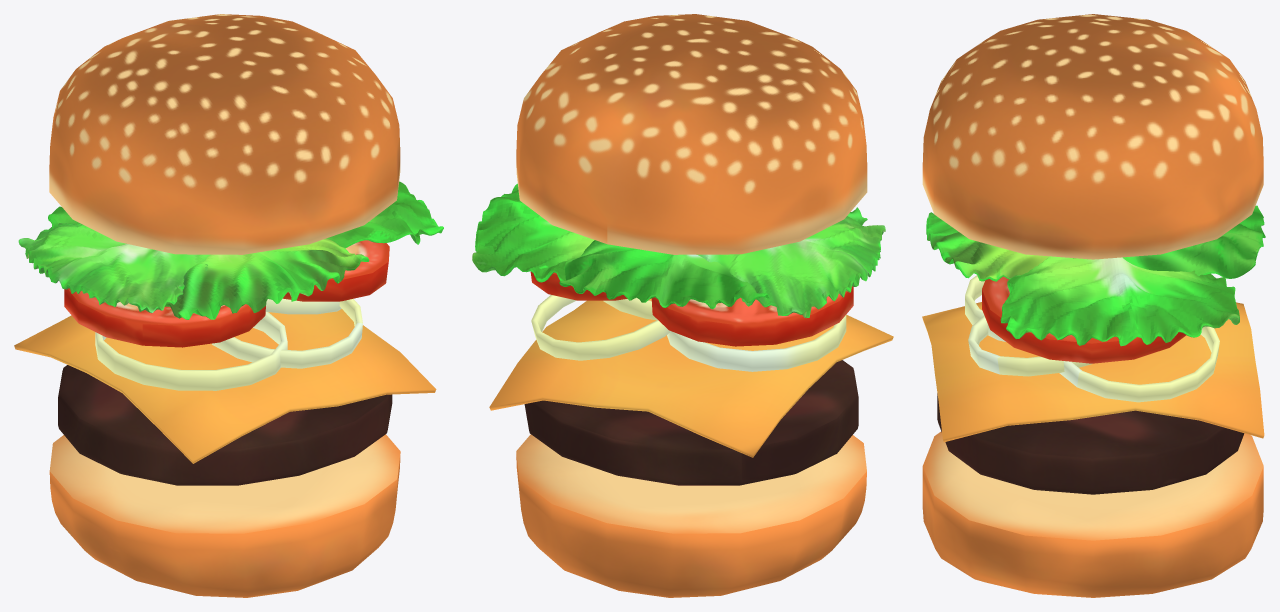
The model's file is burger.glb.
3 renders of one model, left to right at view 1: azimuth 30°, elevation 25°; view 2: azimuth 150°, elevation 25°; view 3: azimuth 270°, elevation 25°, orthographic.
Parts seen in each view (by area): view 1: bread-top, bread-down, chesse, alface1.010, ham, tomato1, onion1, onion-middle, tomato2, onion2; view 2: bread-top, bread-down, alface1.010, chesse, ham, tomato1, onion1, onion2, tomato2, onion-middle; view 3: bread-top, bread-down, alface1.010, chesse, ham, tomato2, onion2, onion-middle, onion1.
Part boxes in pixels (x1=…): bread-top: x1=49, y1=14, x2=400, y2=254; bread-down: x1=49, y1=434, x2=400, y2=597; chesse: x1=14, y1=309, x2=436, y2=463; alface1.010: x1=18, y1=181, x2=443, y2=319; ham: x1=58, y1=365, x2=392, y2=485; tomato1: x1=64, y1=288, x2=265, y2=347; onion1: x1=95, y1=312, x2=287, y2=390; onion-middle: x1=212, y1=298, x2=362, y2=368; tomato2: x1=283, y1=240, x2=389, y2=301; onion2: x1=265, y1=298, x2=341, y2=314; bread-top: x1=516, y1=14, x2=867, y2=254; bread-down: x1=516, y1=434, x2=866, y2=597; alface1.010: x1=472, y1=183, x2=885, y2=317; chesse: x1=489, y1=298, x2=893, y2=457; ham: x1=524, y1=360, x2=858, y2=485; tomato1: x1=651, y1=286, x2=853, y2=346; onion1: x1=667, y1=315, x2=846, y2=371; onion2: x1=531, y1=295, x2=670, y2=360; tomato2: x1=530, y1=271, x2=627, y2=300; onion-middle: x1=603, y1=297, x2=657, y2=320; bread-top: x1=922, y1=14, x2=1263, y2=259; bread-down: x1=922, y1=431, x2=1263, y2=597; alface1.010: x1=926, y1=205, x2=1265, y2=346; chesse: x1=922, y1=302, x2=1264, y2=442; ham: x1=937, y1=393, x2=1244, y2=494; tomato2: x1=982, y1=276, x2=1186, y2=363; onion2: x1=1059, y1=326, x2=1219, y2=402; onion-middle: x1=968, y1=316, x2=1092, y2=376; onion1: x1=965, y1=275, x2=1005, y2=341.
Bounding box in the file's own units: 3.86 × 5.1 × 3.12.
Materials: 2 (2 with a texture image).
